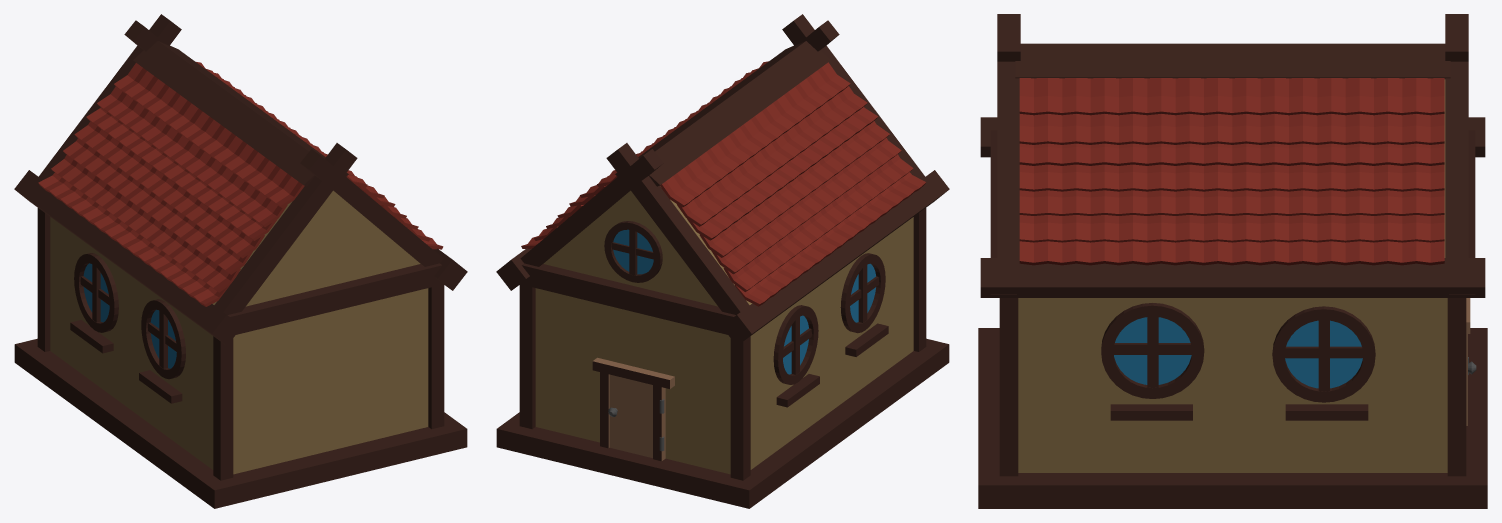
Rendered from House_2.fbx.
3 renders of one model, left to right at view 1: azimuth 30°, elevation 25°; view 2: azimuth 150°, elevation 25°; view 3: azimuth 270°, elevation 25°, orthographic. The views are drawn at different scales.
Parts seen in each view (by area): view 1: Cube; view 2: Cube; view 3: Cube.
Part boxes in pixels (x1,y1,x2,y2): Cube: [14, 14, 467, 508]; Cube: [496, 14, 949, 508]; Cube: [978, 14, 1487, 508].
Size of the model in its own units: 912 by 1092 by 1234.
